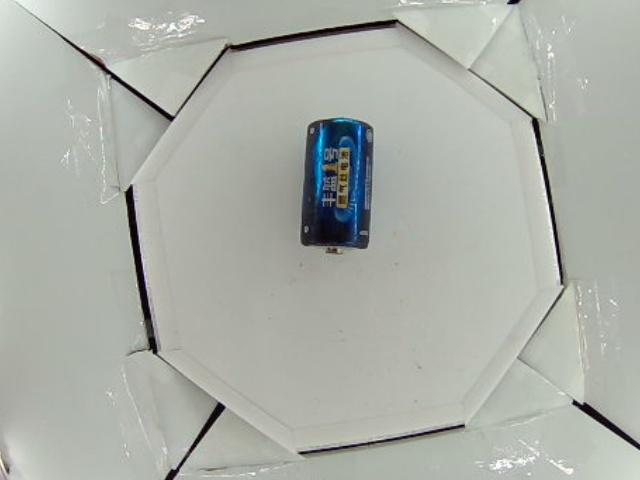Battery: (300, 118, 374, 255)
